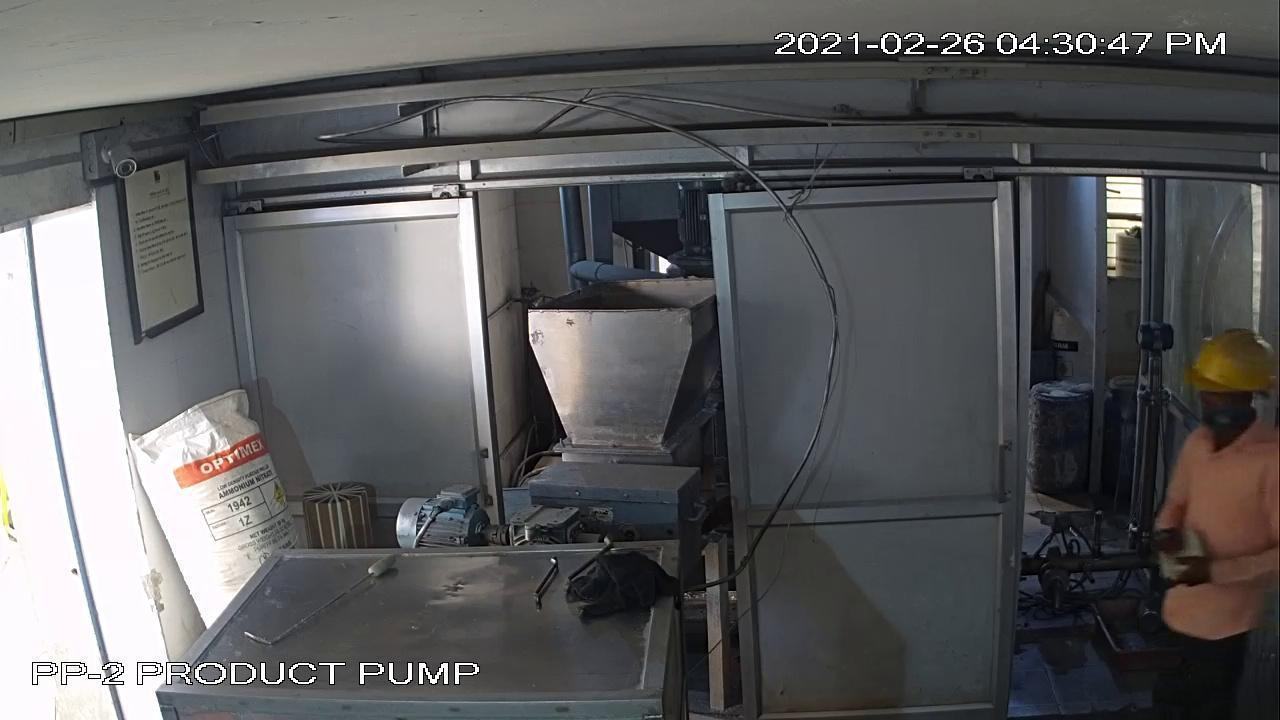helmet: (1155, 310, 1280, 408)
